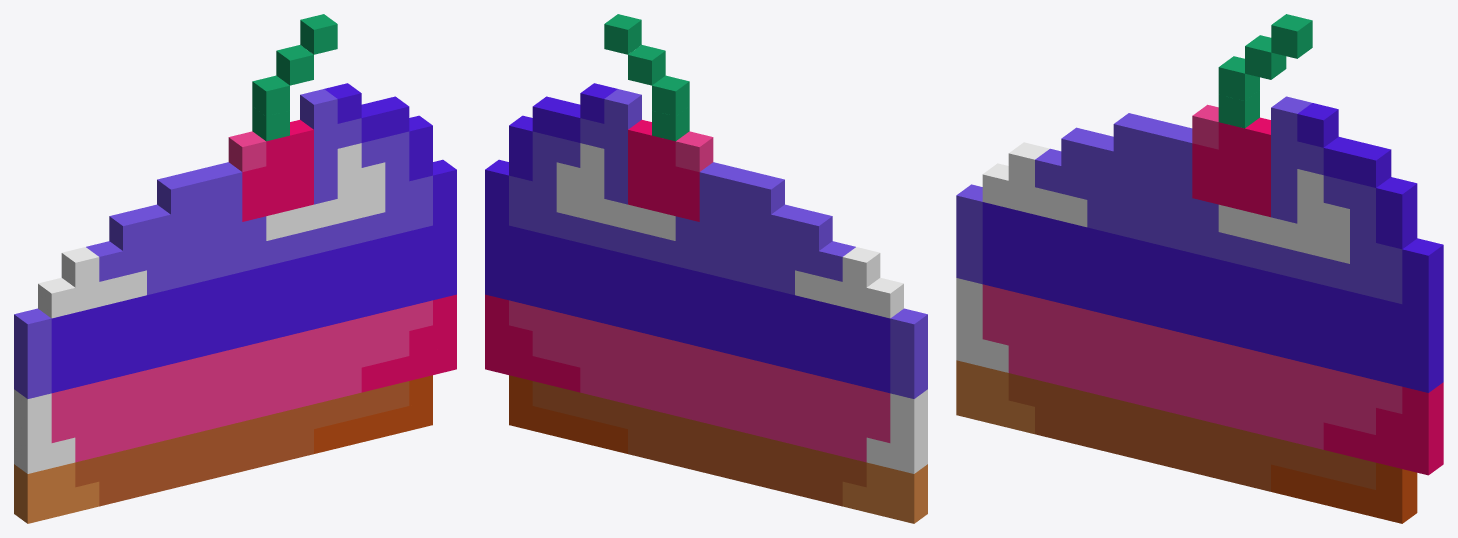
The model's file is p_cheesecake_voxel (1).fbx.
3 views of the same model, side by side, from view 1: azimuth 30°, elevation 25°; view 2: azimuth 150°, elevation 25°; view 3: azimuth 330°, elevation 25° (orthographic). The views are drawn at different scales.
Parts seen in each view (by area): view 1: Cheesecake.113, Cheesecake.191, Cheesecake.149, Cheesecake.208, Cheesecake.074, Cheesecake.212, Cheesecake.171, Cheesecake.210, Cheesecake.211, Cheesecake.200, Cheesecake.203, Cheesecake.202 (+200 smaller); view 2: Cheesecake.113, Cheesecake.191, Cheesecake.149, Cheesecake.208, Cheesecake.074, Cheesecake.212, Cheesecake.171, Cheesecake.210, Cheesecake.211, Cheesecake.200, Cheesecake.203, Cheesecake.202 (+200 smaller); view 3: Cheesecake.008, Cheesecake.033, Cheesecake.020, Cheesecake.060, Cheesecake.212, Cheesecake.210, Cheesecake.211, Cheesecake.019, Cheesecake.005, Cheesecake.006, Cheesecake.007, Cheesecake.209 (+200 smaller).
Part boxes in pixels (bbox=[...]): Cheesecake.113: bbox=[228, 131, 266, 171]; Cheesecake.191: bbox=[61, 247, 99, 287]; Cheesecake.149: bbox=[157, 174, 194, 214]; Cheesecake.208: bbox=[14, 308, 51, 348]; Cheesecake.074: bbox=[300, 89, 337, 129]; Cheesecake.212: bbox=[300, 14, 337, 54]; Cheesecake.171: bbox=[109, 210, 146, 250]; Cheesecake.210: bbox=[252, 75, 289, 116]; Cheesecake.211: bbox=[276, 45, 313, 85]; Cheesecake.200: bbox=[38, 277, 75, 318]; Cheesecake.203: bbox=[14, 439, 51, 473]; Cheesecake.202: bbox=[14, 464, 51, 498]; Cheesecake.113: bbox=[675, 131, 713, 171]; Cheesecake.191: bbox=[842, 247, 880, 287]; Cheesecake.149: bbox=[747, 174, 784, 214]; Cheesecake.208: bbox=[890, 308, 927, 348]; Cheesecake.074: bbox=[604, 89, 641, 129]; Cheesecake.212: bbox=[604, 14, 641, 54]; Cheesecake.171: bbox=[795, 210, 832, 250]; Cheesecake.210: bbox=[652, 75, 689, 116]; Cheesecake.211: bbox=[628, 45, 665, 85]; Cheesecake.200: bbox=[866, 277, 903, 318]; Cheesecake.203: bbox=[890, 439, 927, 473]; Cheesecake.202: bbox=[890, 464, 927, 498]; Cheesecake.008: bbox=[1402, 238, 1443, 282]; Cheesecake.033: bbox=[1350, 143, 1391, 187]; Cheesecake.020: bbox=[1376, 177, 1417, 221]; Cheesecake.060: bbox=[1297, 103, 1338, 147]; Cheesecake.212: bbox=[1271, 14, 1312, 58]; Cheesecake.210: bbox=[1218, 56, 1259, 100]; Cheesecake.211: bbox=[1245, 35, 1286, 79]; Cheesecake.019: bbox=[1376, 211, 1417, 249]; Cheesecake.005: bbox=[1402, 327, 1443, 365]; Cheesecake.006: bbox=[1402, 300, 1443, 337]; Cheesecake.007: bbox=[1402, 272, 1443, 310]; Cheesecake.209: bbox=[1218, 90, 1259, 128].
Size of the model in its own units: 1.79 by 1.7 by 0.0997.
